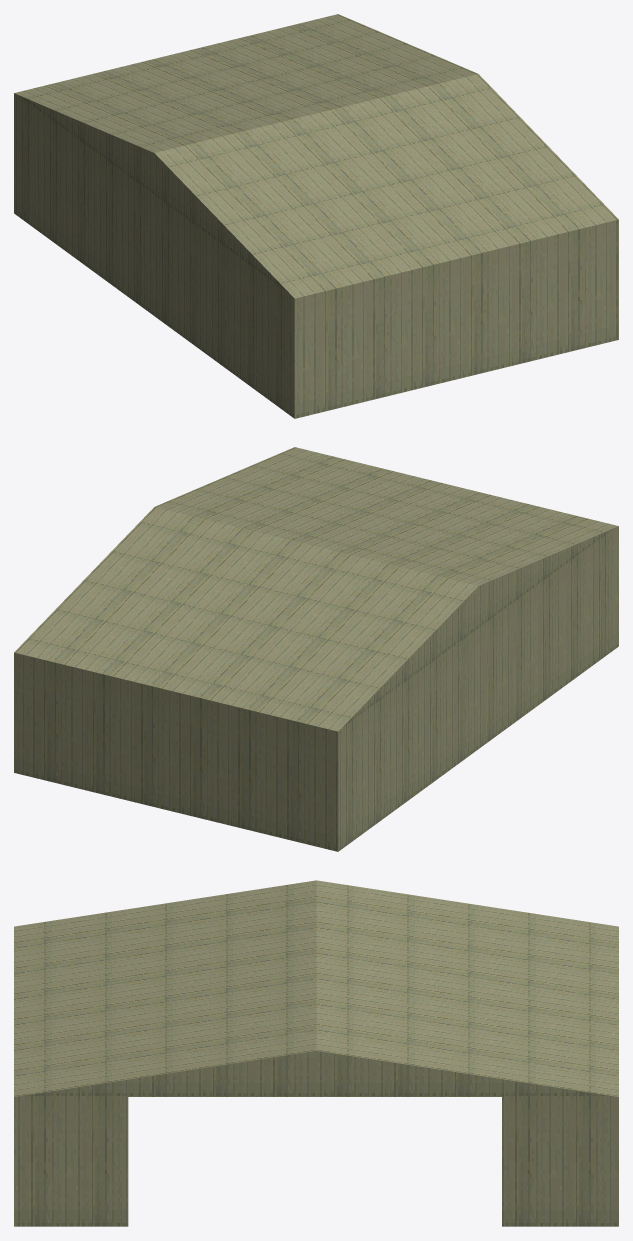
The model's file is lod_mil_hangar1_.obj.
3 renders of one model, top to bottom at view 1: azimuth 30°, elevation 25°; view 2: azimuth 150°, elevation 25°; view 3: azimuth 270°, elevation 25°, orthographic. The views are drawn at different scales.
Visible parts, largest first — view 1: lod_mil_hangar1_; view 2: lod_mil_hangar1_; view 3: lod_mil_hangar1_.
Boxes of the visible parts, x1,y1,x2,y2 form: lod_mil_hangar1_: (14,14,618,418); lod_mil_hangar1_: (14,447,618,851); lod_mil_hangar1_: (14,880,618,1226).
Bounding box in the file's own units: 19.36 × 9.31 × 29.04.
1 material, 1 textured.
